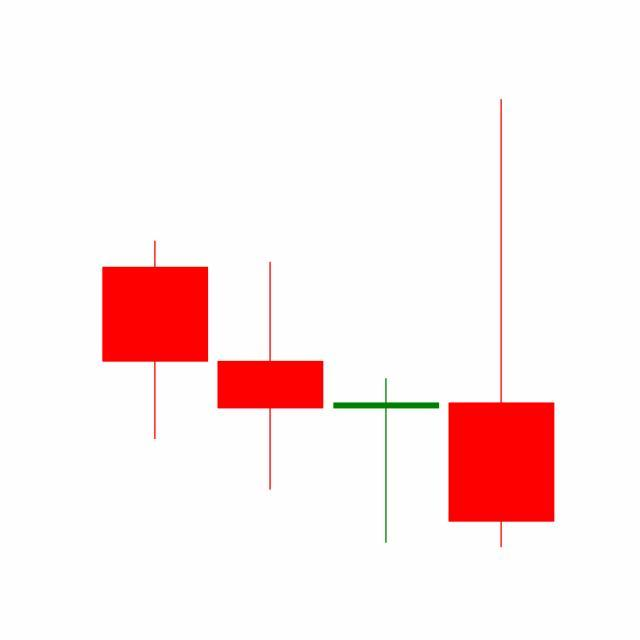Spinning Top: (329, 378, 445, 547)
